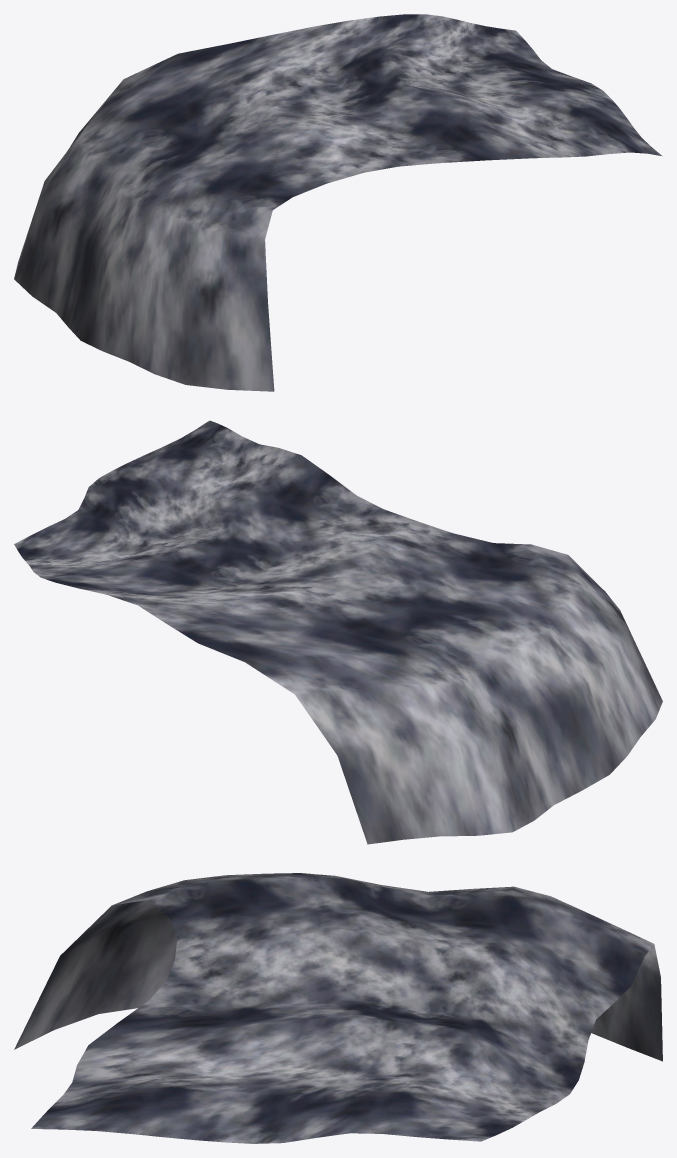
File: SWORDLIGHT20_WATER02.obj
3 renders of one model, top to bottom at view 1: azimuth 30°, elevation 25°; view 2: azimuth 150°, elevation 25°; view 3: azimuth 270°, elevation 25°, orthographic. The views are drawn at different scales.
Parts seen in each view (by area): view 1: Water02; view 2: Water02; view 3: Water02.
Part boxes in pixels (<box>): Water02: <box>14,14,662,391</box>; Water02: <box>14,420,662,844</box>; Water02: <box>14,873,662,1143</box>.
Bounding box in the file's own units: 2090 × 655 × 1721.
